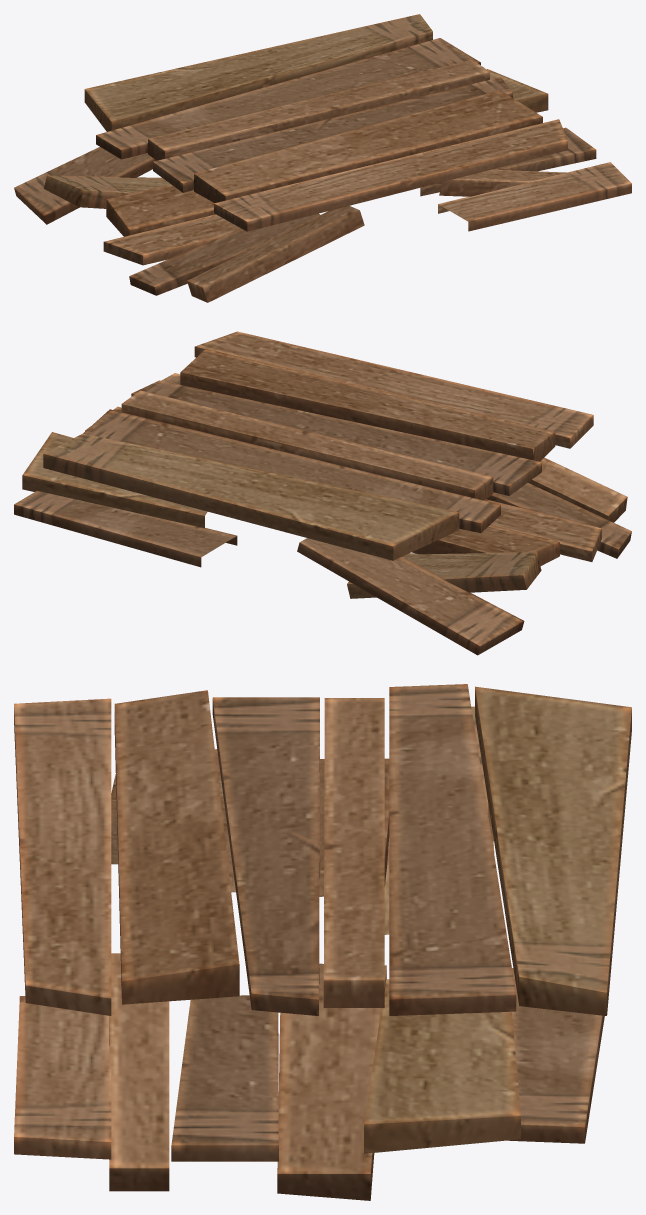
The model's file is FB_ShanJianMuQiao_Dibiao.FBX.
3 views of the same model, one above another, from view 1: azimuth 30°, elevation 25°; view 2: azimuth 150°, elevation 25°; view 3: azimuth 270°, elevation 25° (orthographic). The views are drawn at different scales.
Visible parts, largest first — view 1: Box19; view 2: Box19; view 3: Box19.
Part boxes in pixels (x1,y1,x2,y2): Box19: (14, 14, 631, 302); Box19: (14, 331, 631, 655); Box19: (14, 684, 631, 1200).
Size of the model in its own units: 16.63 by 3.48 by 10.62.
